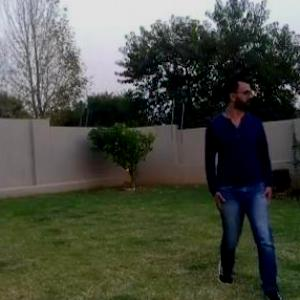follow: (203, 56, 277, 281)
